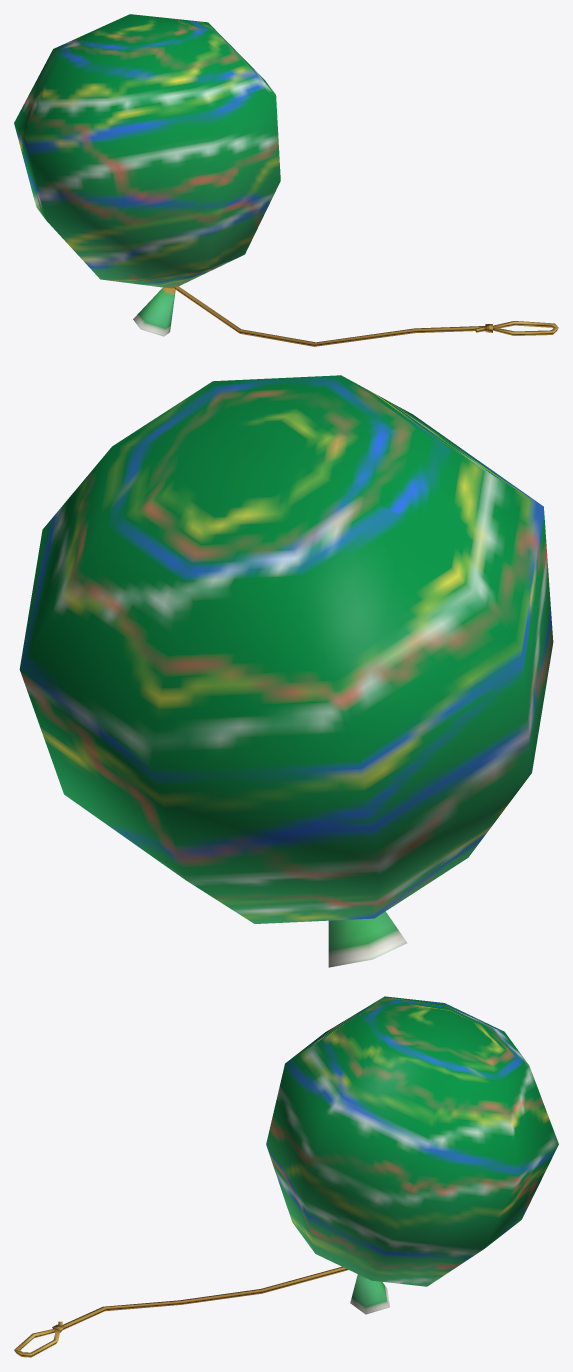
The model's file is jsf_WaterBalloon_15_d.fbx.
The picture shows the model from 3 angles, top to bottom: view 1: azimuth 30°, elevation 25°; view 2: azimuth 150°, elevation 25°; view 3: azimuth 270°, elevation 25°; orthographic projection. The views are drawn at different scales.
Visible parts, largest first — view 1: jsf_WaterBalloon_15_d; view 2: jsf_WaterBalloon_15_d; view 3: jsf_WaterBalloon_15_d.
Boxes of the visible parts, x1,y1,x2,y2 form: jsf_WaterBalloon_15_d: [14, 14, 558, 346]; jsf_WaterBalloon_15_d: [19, 375, 553, 967]; jsf_WaterBalloon_15_d: [14, 996, 558, 1357].
Size of the model in its own units: 15.63 by 12.55 by 20.67.
